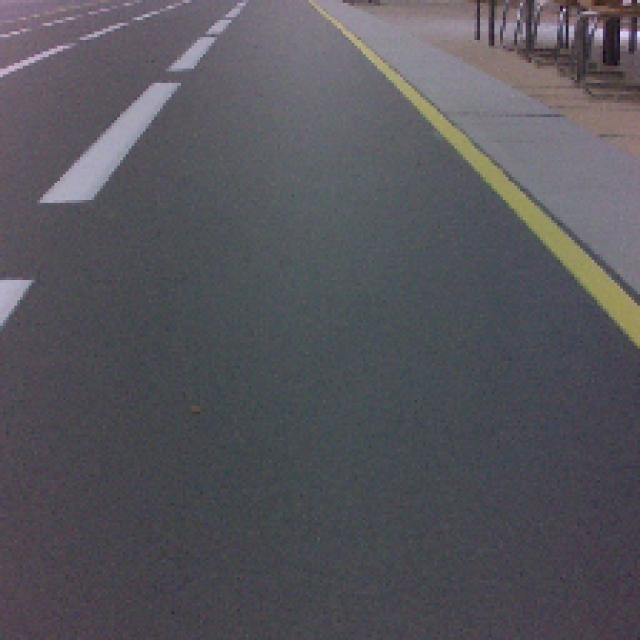Road: (2, 315, 640, 637)
